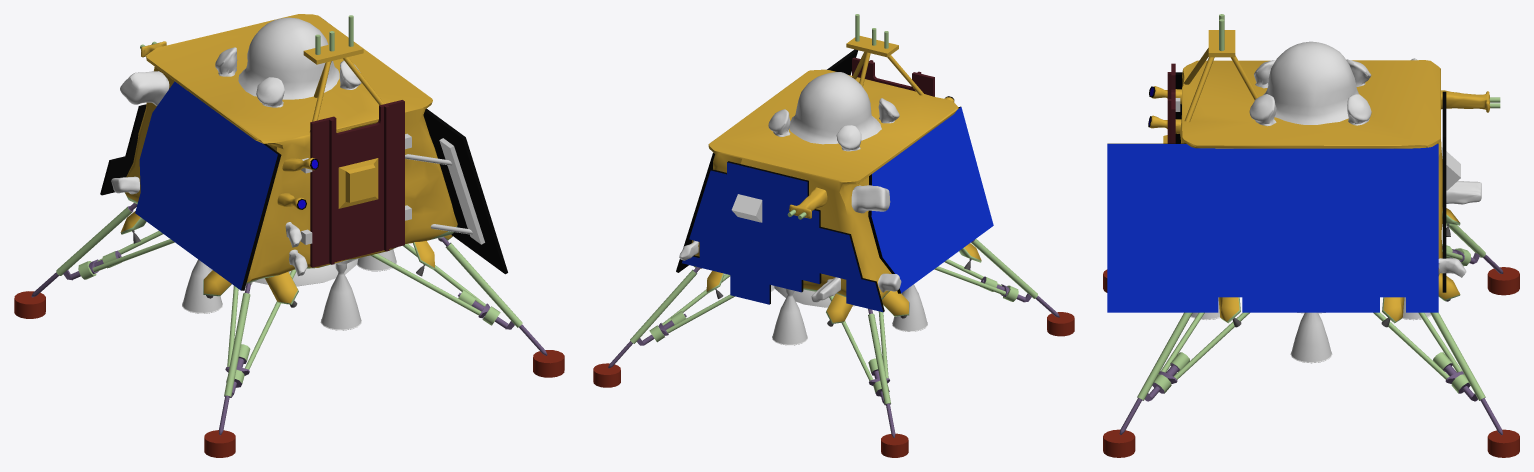
File: Vikram_Sketchfab.fbx
3 views of the same model, side by side, from view 1: azimuth 30°, elevation 25°; view 2: azimuth 150°, elevation 25°; view 3: azimuth 270°, elevation 25° (orthographic). The views are drawn at different scales.
Visible parts, largest first — view 1: Vikram.Body.Core.Foil, Vikram.SolarPanel.Left, Vikram.Door, Vikram.BodyPart.004, Vikram.SolarPanel.Right, Vikram.Foot.Pad.001, Vikram.Foot.Pad.004, Vikram.Foot.Pad.003, Vikram.Ori.Nose, Vikram.Body.LRA, Vikram.SolarPanel.Right.Holder, Vikram.Nose.001 (+7 smaller); view 2: Vikram.SolarPanel.Back, Vikram.Body.Core.Foil, Vikram.SolarPanel.Left, Vikram.BodyPart.004, Vikram.Foot.Pad.002, Vikram.Foot.Pad.003, Vikram.Foot.Pad.004, Vikram.Ori.Nose, Vikram.Body.LRA, Vikram.BodyPart.ReactionWheels, Vikram.Nose.003, Vikram.BodyPart.LDV (+6 smaller); view 3: Vikram.SolarPanel.Right, Vikram.Body.Core.Foil, Vikram.BodyPart.004, Vikram.Foot.Pad.002, Vikram.Foot.Pad.001, Vikram.BodyPart.ReactionWheels, Vikram.Body.LRA, Vikram.Ori.Nose, Vikram.Foot.Pad.003, Vikram.Nose.002, Vikram.SolarPanel.Back, Vikram.BodyPart.LHVC (+4 smaller).
Boxes of the visible parts, x1,y1,x2,y2 form: Vikram.Body.Core.Foil: (124,14,457,283); Vikram.SolarPanel.Left: (135,81,281,290); Vikram.Door: (310,100,404,267); Vikram.BodyPart.004: (238,17,339,99); Vikram.SolarPanel.Right: (423,108,507,274); Vikram.Foot.Pad.001: (370,237,564,377); Vikram.Foot.Pad.004: (204,269,296,457); Vikram.Foot.Pad.003: (14,203,174,318); Vikram.Ori.Nose: (120,211,452,307); Vikram.Body.LRA: (303,15,384,131); Vikram.SolarPanel.Right.Holder: (405,138,484,244); Vikram.Nose.001: (320,263,361,330); Vikram.SolarPanel.Back: (682,161,884,312); Vikram.Body.Core.Foil: (692,69,958,299); Vikram.SolarPanel.Left: (868,106,993,293); Vikram.BodyPart.004: (789,72,881,144); Vikram.Foot.Pad.002: (593,267,734,387); Vikram.Foot.Pad.003: (829,296,908,457); Vikram.Foot.Pad.004: (934,239,1074,336); Vikram.Ori.Nose: (693,243,981,326); Vikram.Body.LRA: (846,14,923,95); Vikram.BodyPart.ReactionWheels: (768,98,899,151); Vikram.Nose.003: (772,288,807,345); Vikram.BodyPart.LDV: (851,185,890,213); Vikram.SolarPanel.Right: (1107,143,1438,312); Vikram.Body.Core.Foil: (1180,60,1442,275); Vikram.BodyPart.004: (1263,41,1358,124); Vikram.Foot.Pad.002: (1373,312,1519,457); Vikram.Foot.Pad.001: (1103,312,1249,457); Vikram.BodyPart.ReactionWheels: (1249,59,1371,126); Vikram.Body.LRA: (1184,14,1258,122); Vikram.Ori.Nose: (1218,207,1460,327); Vikram.Foot.Pad.003: (1442,225,1519,295); Vikram.Nose.002: (1290,312,1332,363); Vikram.SolarPanel.Back: (1442,91,1446,292); Vikram.BodyPart.LHVC: (1441,90,1500,112).
Size of the model in its own units: 3.28 by 3.11 by 3.28.
